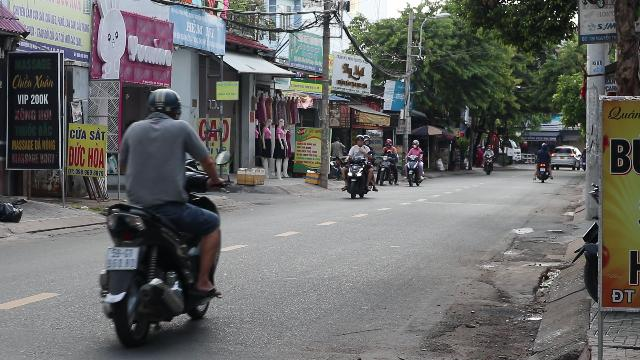helmet: (142, 87, 182, 121)
licenseplate: (106, 247, 138, 269)
motorcyclist: (99, 84, 228, 347)
